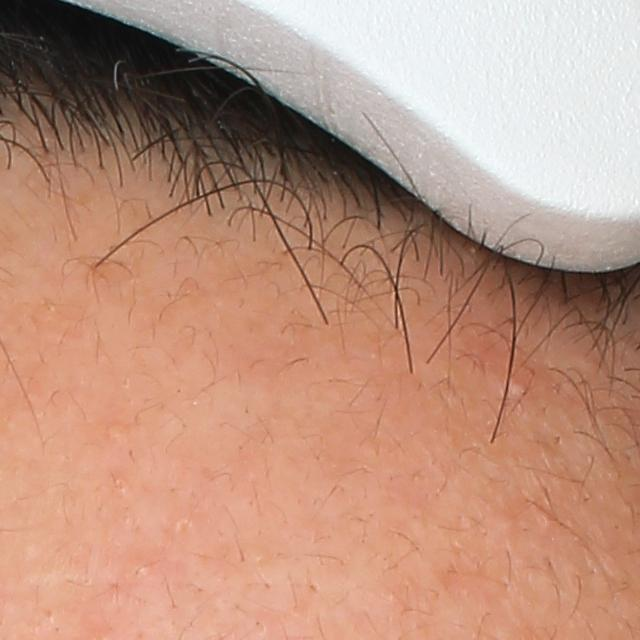comedo: (509, 381, 531, 401)
